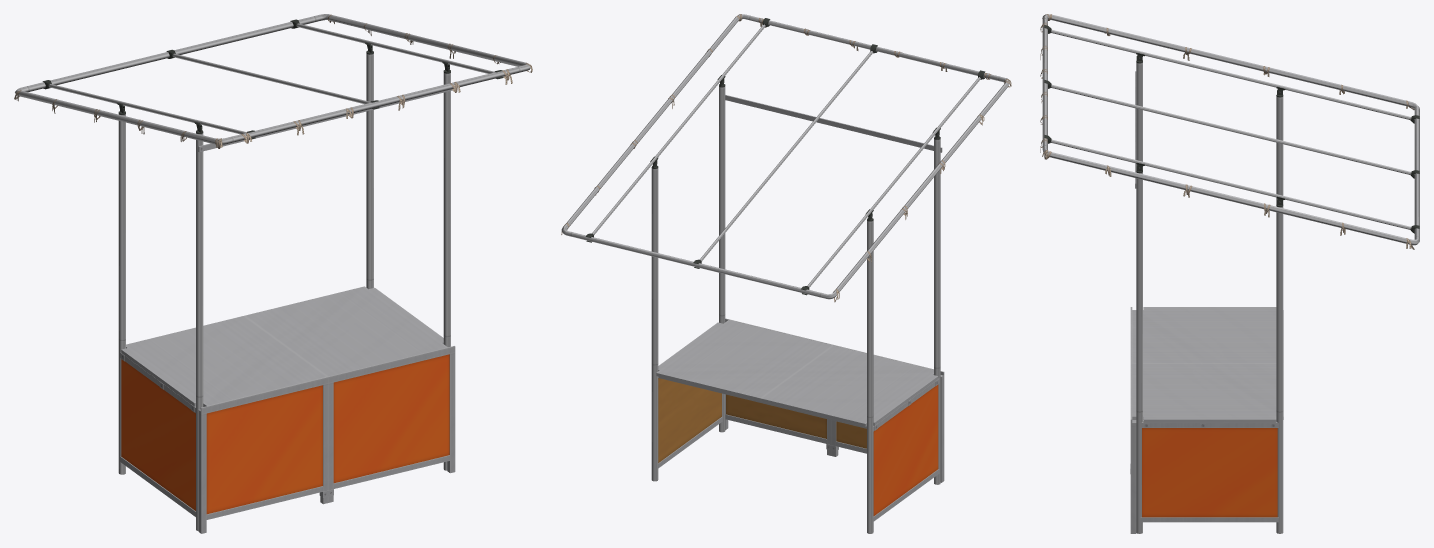
The model's file is jsf_4P_s01_c01_t01.fbx.
3 views of the same model, side by side, from view 1: azimuth 30°, elevation 25°; view 2: azimuth 150°, elevation 25°; view 3: azimuth 270°, elevation 25° (orthographic). The views are drawn at different scales.
Parts seen in each view (by area): view 1: Base_s01_c01, Table_4P_s01_t01, Pillar4_s01, Rope_4P_s01; view 2: Pillar4_s01, Table_4P_s01_t01, Base_s01_c01, Rope_4P_s01; view 3: Pillar4_s01, Table_4P_s01_t01, Base_s01_c01, Rope_4P_s01.
Boxes of the visible parts, x1=… form: Base_s01_c01: x1=120, y1=346, x2=455, y2=533; Table_4P_s01_t01: x1=121, y1=286, x2=447, y2=412; Pillar4_s01: x1=15, y1=14, x2=530, y2=530; Rope_4P_s01: x1=14, y1=14, x2=532, y2=148; Pillar4_s01: x1=561, y1=14, x2=1010, y2=533; Table_4P_s01_t01: x1=656, y1=320, x2=938, y2=430; Base_s01_c01: x1=658, y1=318, x2=944, y2=521; Rope_4P_s01: x1=561, y1=14, x2=1011, y2=302; Pillar4_s01: x1=1042, y1=14, x2=1419, y2=533; Table_4P_s01_t01: x1=1132, y1=307, x2=1283, y2=427; Base_s01_c01: x1=1130, y1=307, x2=1278, y2=533; Rope_4P_s01: x1=1040, y1=14, x2=1414, y2=249.
Bounding box in the file's own units: 186 × 243 × 211.
